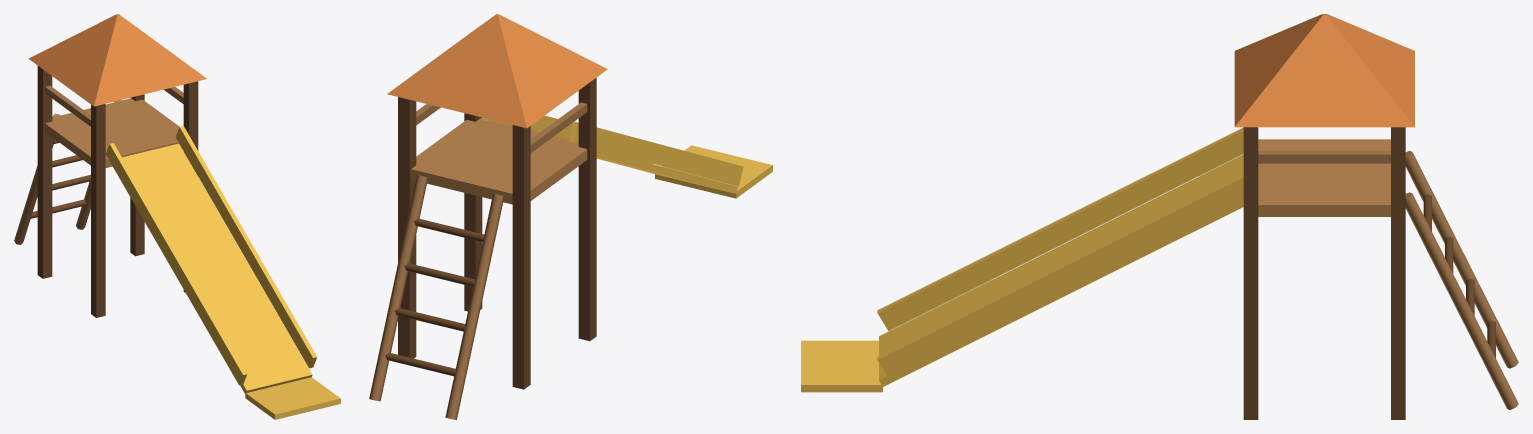
File: prop_slide.glb
The picture shows the model from 3 angles, left to right: view 1: azimuth 30°, elevation 25°; view 2: azimuth 150°, elevation 25°; view 3: azimuth 270°, elevation 25°; orthographic projection. The views are drawn at different scales.
Parts seen in each view (by area): view 1: Prop_Slide; view 2: Prop_Slide; view 3: Prop_Slide.
Boxes of the visible parts, x1,y1,x2,y2 form: Prop_Slide: (14,14,340,419); Prop_Slide: (369,14,772,419); Prop_Slide: (801,14,1518,419).
Size of the model in its own units: 1.1 by 2.52 by 4.39.
